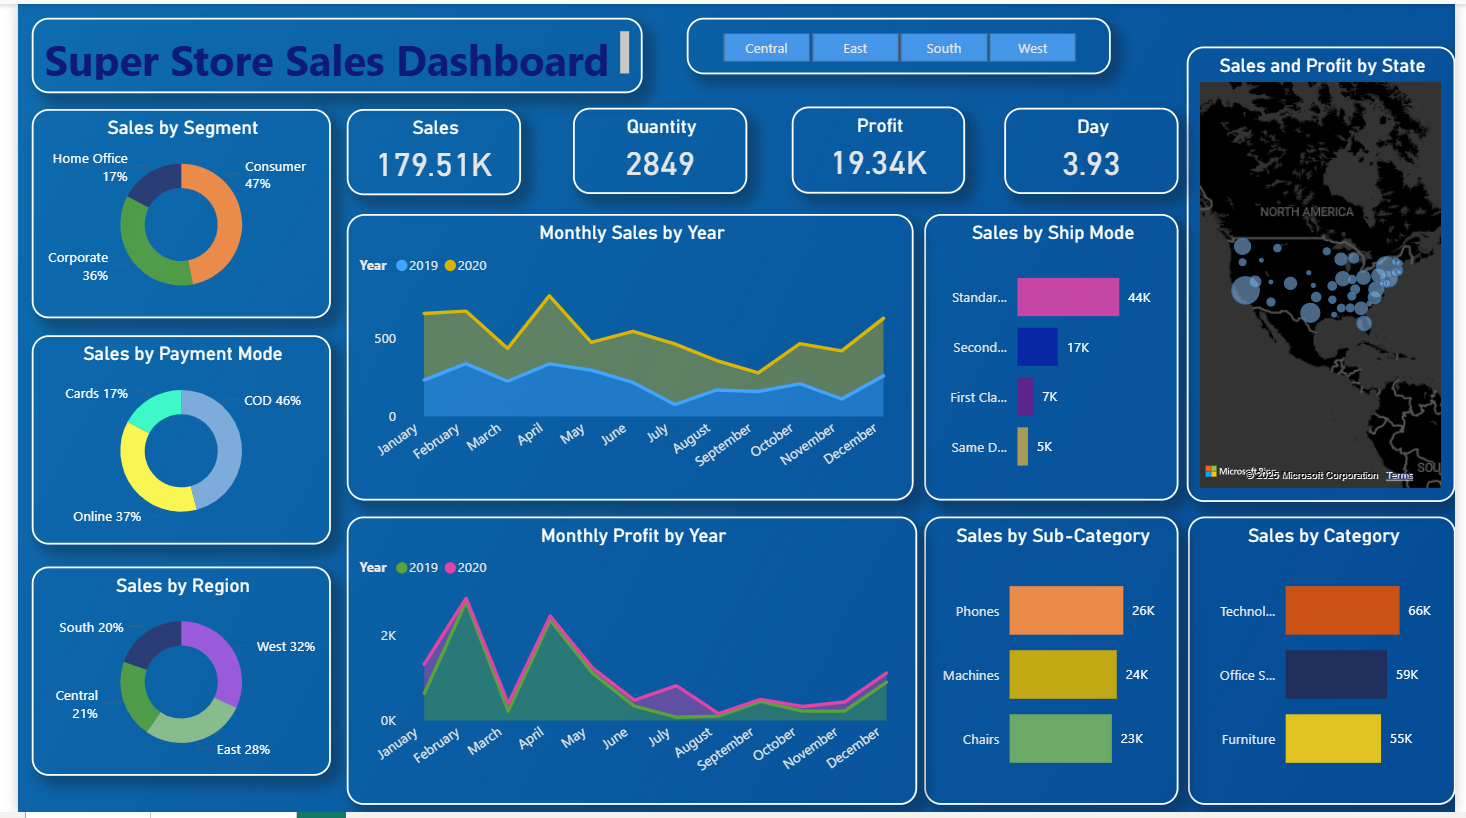

Layout of this report page (visuals, bound fields, positions):
{"tool":"powerbi","page":{"name":"DashBoard","canvas":[1280,720],"ordinal":0},"visuals":[{"type":"clusteredBarChart","title":"Sales by Category","fields":{"Category":["SuperStore Sales DataSet xlsx - Sheet1.Category"],"Y":["Sum(SuperStore Sales DataSet xlsx - Sheet1.Sales)"]},"box":[1041.5,456.9,238.8,256.6],"z":0},{"type":"clusteredBarChart","title":"Sales by Sub-Category","fields":{"Category":["SuperStore Sales DataSet xlsx - Sheet1.Sub-Category"],"Y":["Sum(SuperStore Sales DataSet xlsx - Sheet1.Sales)"]},"box":[806.9,456.9,226.4,256.6],"z":1000},{"type":"clusteredBarChart","title":"Sales by Ship Mode","fields":{"Category":["SuperStore Sales DataSet xlsx - Sheet1.Ship Mode"],"Y":["Sum(SuperStore Sales DataSet xlsx - Sheet1.Sales)"]},"box":[806.9,186.6,226.4,255.2],"z":2000},{"type":"stackedAreaChart","title":"Monthly Sales by Year","fields":{"Category":["SuperStore Sales DataSet xlsx - Sheet1.Order Date.Variation.Date Hierarchy.Month","SuperStore Sales DataSet xlsx - Sheet1.Order Date.Variation.Date Hierarchy.Day"],"Y":["Avg(SuperStore Sales DataSet xlsx - Sheet1.Sales)"],"Series":["SuperStore Sales DataSet xlsx - Sheet1.Order Date.Variation.Date Hierarchy.Year"]},"box":[292.3,186.6,505,255.2],"z":3000},{"type":"stackedAreaChart","title":"Monthly Profit by Year","fields":{"Category":["SuperStore Sales DataSet xlsx - Sheet1.Order Date.Variation.Date Hierarchy.Month","SuperStore Sales DataSet xlsx - Sheet1.Order Date.Variation.Date Hierarchy.Day"],"Series":["SuperStore Sales DataSet xlsx - Sheet1.Order Date.Variation.Date Hierarchy.Year"],"Y":["Max(SuperStore Sales DataSet xlsx - Sheet1.Profit)"]},"box":[292.3,456.9,507.7,256.6],"z":4000},{"type":"map","title":"Sales and Profit by State","fields":{"Category":["SuperStore Sales DataSet xlsx - Sheet1.State"],"Size":["Sum(SuperStore Sales DataSet xlsx - Sheet1.Sales)"]},"box":[1041.2,37.4,238.9,405.4],"z":5000},{"type":"donutChart","title":" Sales by Segment","fields":{"Category":["SuperStore Sales DataSet xlsx - Sheet1.Segment"],"Y":["Sum(SuperStore Sales DataSet xlsx - Sheet1.Sales)"]},"box":[12.3,93.3,266.2,186.6],"z":6000},{"type":"donutChart","title":" Sales by Payment Mode","fields":{"Category":["SuperStore Sales DataSet xlsx - Sheet1.Payment Mode"],"Y":["Sum(SuperStore Sales DataSet xlsx - Sheet1.Sales)"]},"box":[12.3,295,266.2,186.6],"z":7000},{"type":"donutChart","title":" Sales by Region","fields":{"Category":["SuperStore Sales DataSet xlsx - Sheet1.Region"],"Y":["Sum(SuperStore Sales DataSet xlsx - Sheet1.Sales)"]},"box":[12.3,500.9,266.2,186.6],"z":8000},{"type":"slicer","fields":{"Values":["SuperStore Sales DataSet xlsx - Sheet1.Region"]},"box":[595.5,12.3,377.4,50.8],"z":9000},{"type":"textbox","box":[12.3,12.3,544,67.2],"z":10000},{"type":"card","title":"Sales","fields":{"Values":["Sum(SuperStore Sales DataSet xlsx - Sheet1.Sales)"]},"box":[292.3,93.3,155.1,76.8],"z":11000},{"type":"card","title":"Quantity","fields":{"Values":["Sum(SuperStore Sales DataSet xlsx - Sheet1.Quantity)"]},"box":[494,91.9,155.1,76.8],"z":12000},{"type":"card","title":"Profit","fields":{"Values":["Sum(SuperStore Sales DataSet xlsx - Sheet1.Profit)"]},"box":[688.9,91.7,154.4,77.2],"z":13000},{"type":"card","title":"Day","fields":{"Values":["Avg(SuperStore Sales DataSet xlsx - Sheet1.AvgDelivery)"]},"box":[878.2,91.9,155.1,76.8],"z":14000}]}

Visuals, with their boxes in screenshot pixels (x1, y1, x2, y2), scaled from the page's 1280x720 canvas onto the 1466x818 screenshot:
"Sales by Category" clusteredBarChart: bbox=(1193, 519, 1465, 811)
"Sales by Sub-Category" clusteredBarChart: bbox=(924, 519, 1183, 811)
"Sales by Ship Mode" clusteredBarChart: bbox=(924, 212, 1183, 502)
"Monthly Sales by Year" stackedAreaChart: bbox=(335, 212, 913, 502)
"Monthly Profit by Year" stackedAreaChart: bbox=(335, 519, 916, 811)
"Sales and Profit by State" map: bbox=(1192, 42, 1465, 503)
" Sales by Segment" donutChart: bbox=(14, 106, 319, 318)
" Sales by Payment Mode" donutChart: bbox=(14, 335, 319, 547)
" Sales by Region" donutChart: bbox=(14, 569, 319, 781)
slicer - SuperStore Sales DataSet xlsx - Sheet1.Region: bbox=(682, 14, 1114, 72)
textbox: bbox=(14, 14, 637, 90)
"Sales" card: bbox=(335, 106, 512, 193)
"Quantity" card: bbox=(566, 104, 743, 192)
"Profit" card: bbox=(789, 104, 966, 192)
"Day" card: bbox=(1006, 104, 1183, 192)
